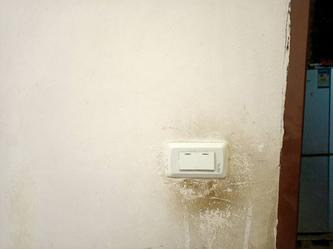switch: (198, 151, 213, 168), (180, 150, 192, 167)
